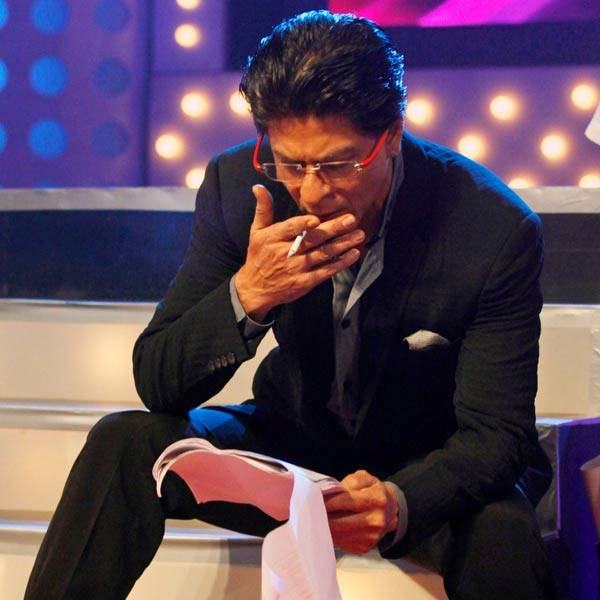cigarette: (283, 218, 308, 261)
